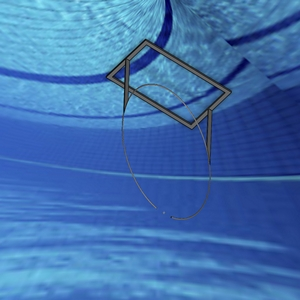circle: (106, 37, 235, 222)
